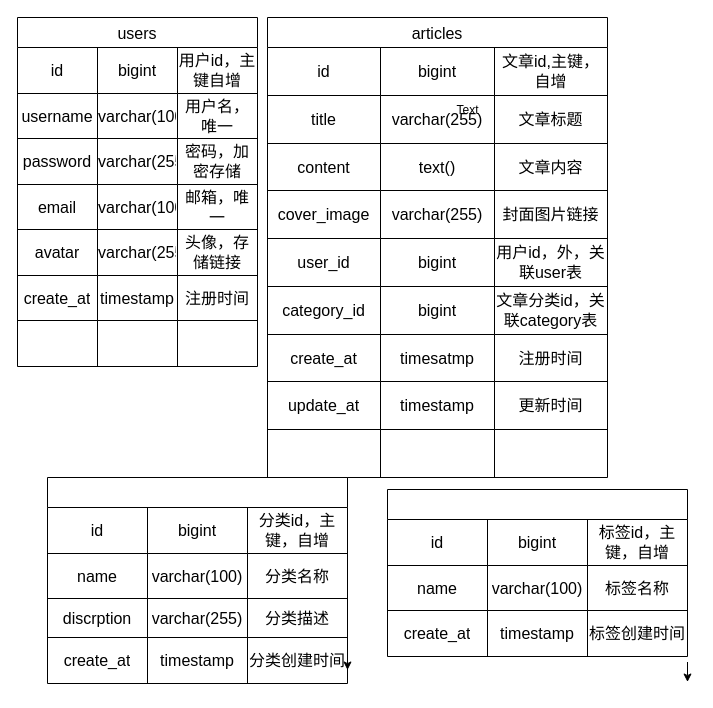
The diagram is 713 pixels wide and 708 high, and some of its shapes have lost their labels. The box of each missing label's shape, as (x1, y1, x2, y2) in pixels:
categotys: (46, 476, 348, 684)
tags: (386, 488, 688, 656)
